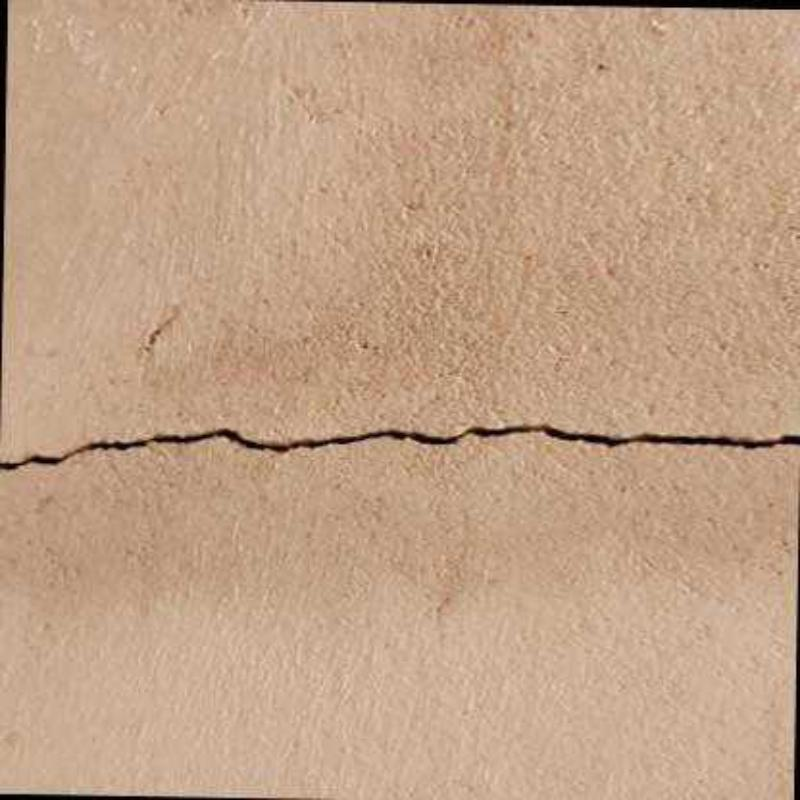pothole: (1, 424, 799, 470)
